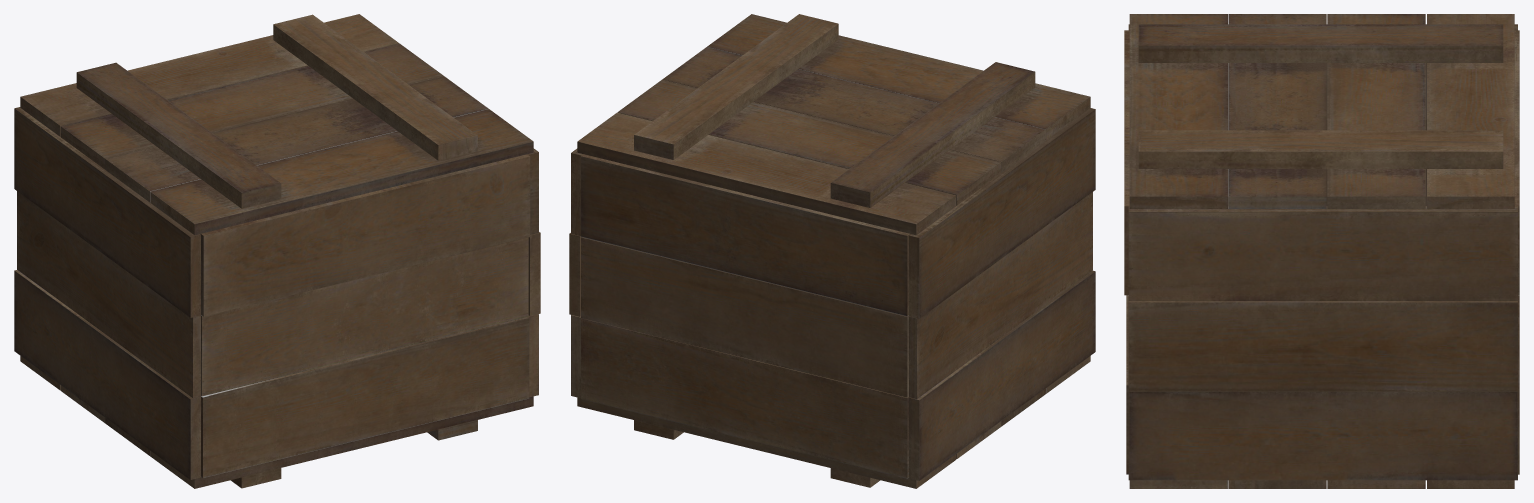
The model's file is Storagebox.glb.
The picture shows the model from 3 angles, left to right: view 1: azimuth 30°, elevation 25°; view 2: azimuth 150°, elevation 25°; view 3: azimuth 270°, elevation 25°; orthographic projection. The views are drawn at different scales.
Parts seen in each view (by area): view 1: Box019.001; view 2: Box019.001; view 3: Box019.001.
Part boxes in pixels (x1,y1,x2,y2): Box019.001: [14, 14, 540, 488]; Box019.001: [569, 14, 1095, 488]; Box019.001: [1124, 14, 1519, 488].
Size of the model in its own units: 0.4102 by 0.3307 by 0.3633.
Materials: 1 (1 with a texture image).
